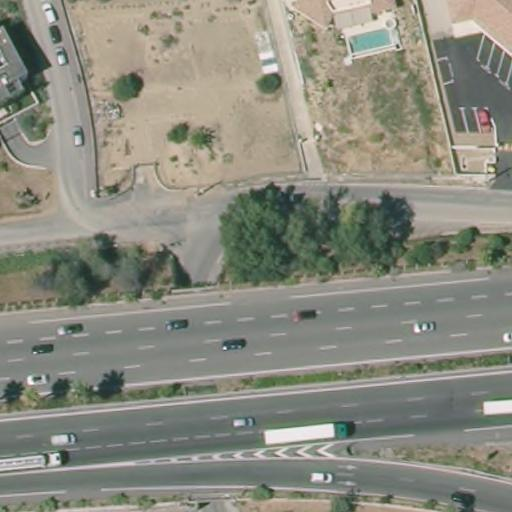pool: (336, 18, 403, 57)
